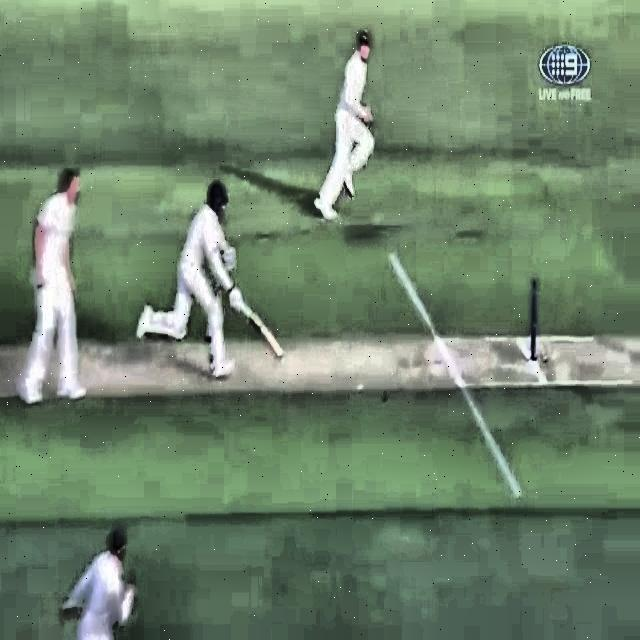Bat: (223, 286, 286, 362)
Pitch_Line: (386, 250, 523, 500)
Undis_Wicket: (527, 278, 549, 364)
